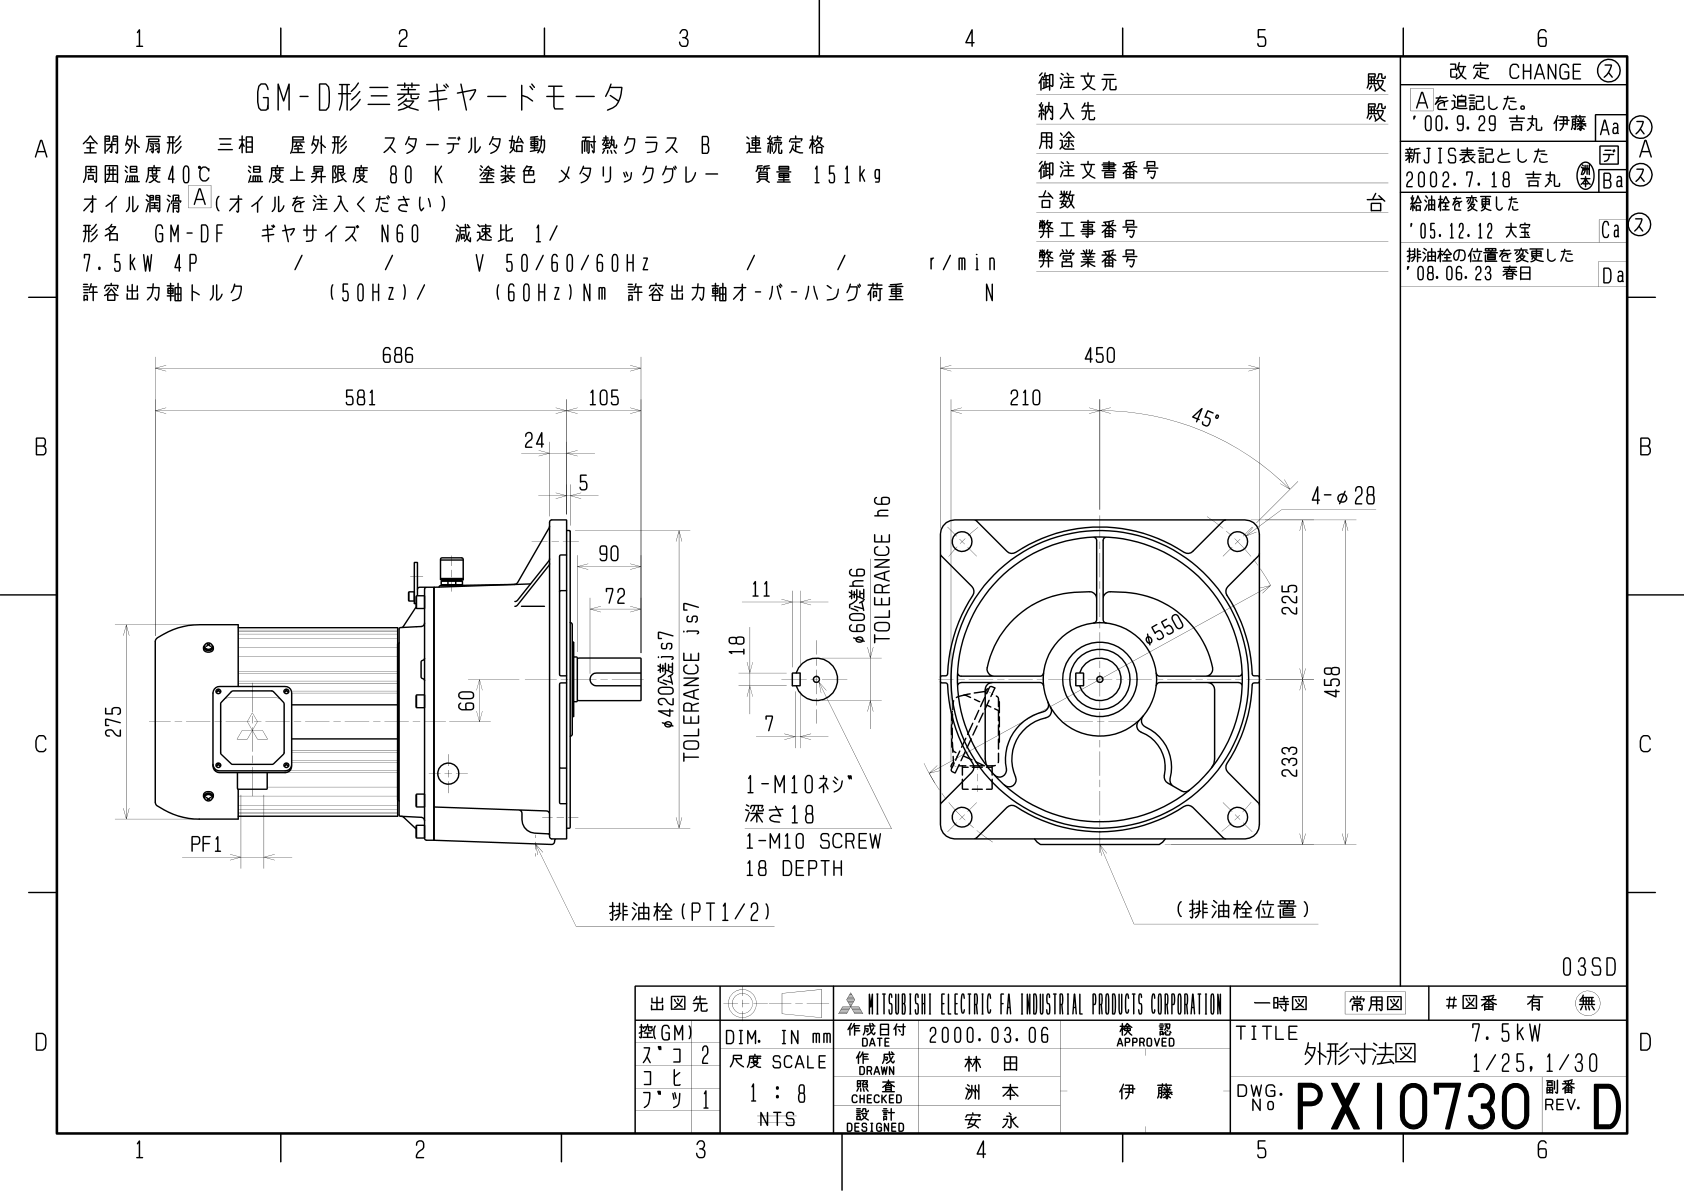GM_D_屋外＿三相_フランジ: (71, 311, 1385, 938)
